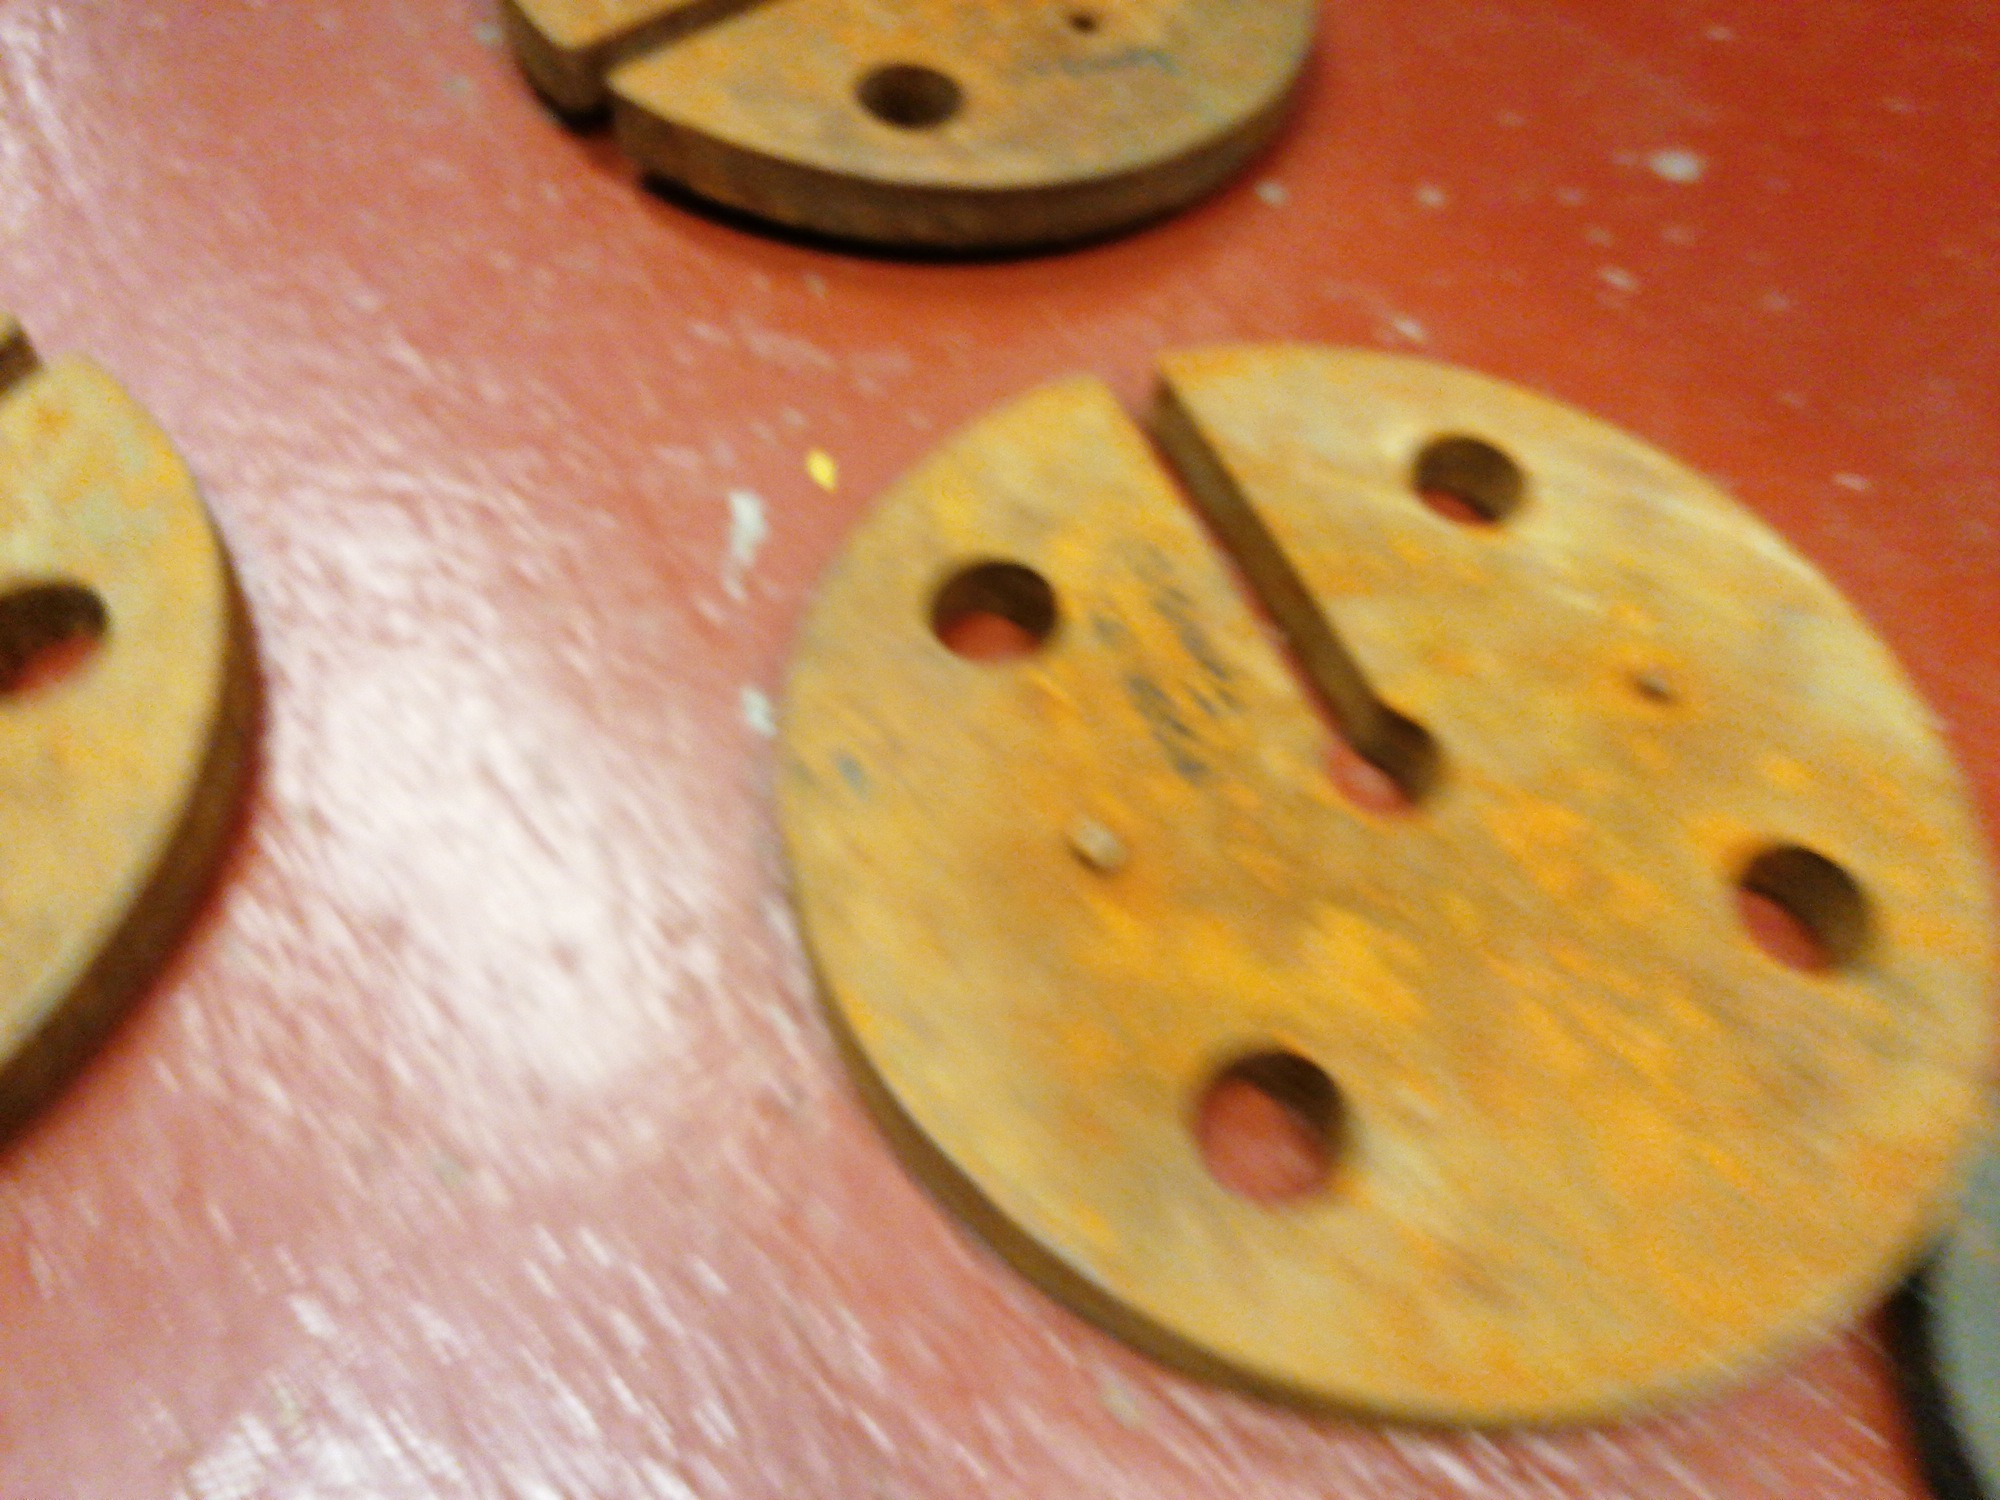flange: (772, 339, 1997, 1428), (0, 303, 257, 1141), (502, 2, 1323, 249), (1894, 1138, 1998, 1497)
